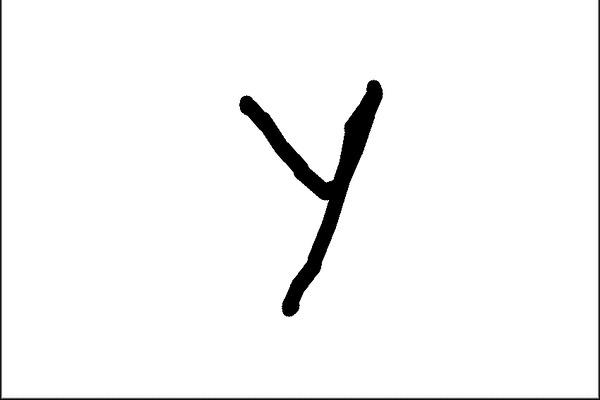Y: (227, 69, 393, 330)
